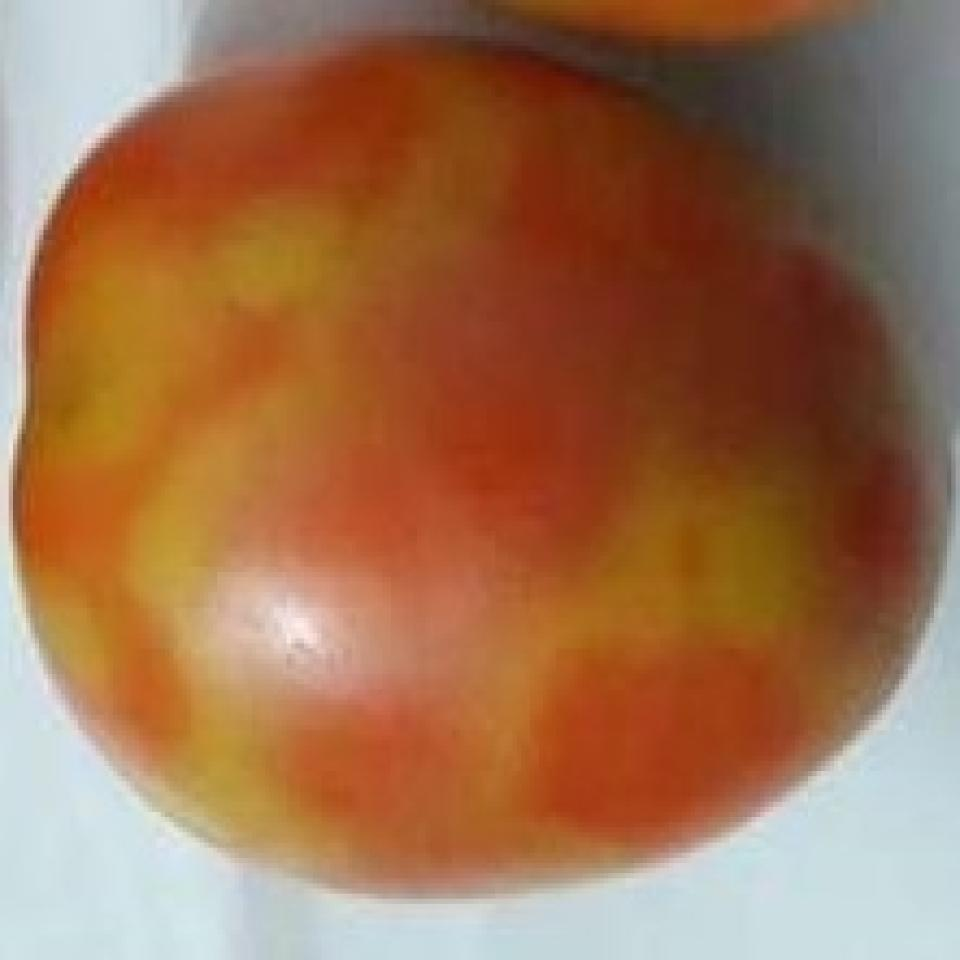Spotted wilt Virus: (14, 39, 951, 902)
